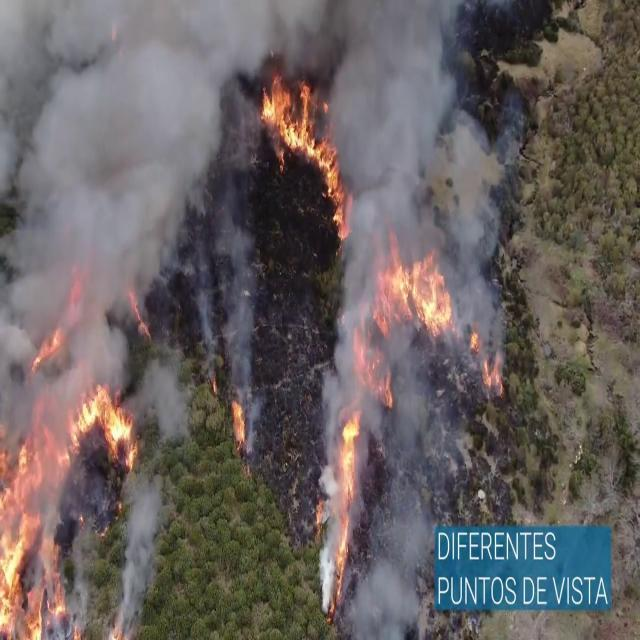Fire: (0, 420, 64, 637), (258, 65, 342, 203), (324, 410, 362, 606), (378, 244, 456, 336), (70, 378, 136, 461), (229, 389, 249, 456)
Smoke: (0, 0, 270, 386), (318, 2, 507, 470)
